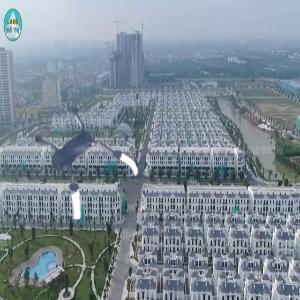drone: (15, 99, 142, 226)
